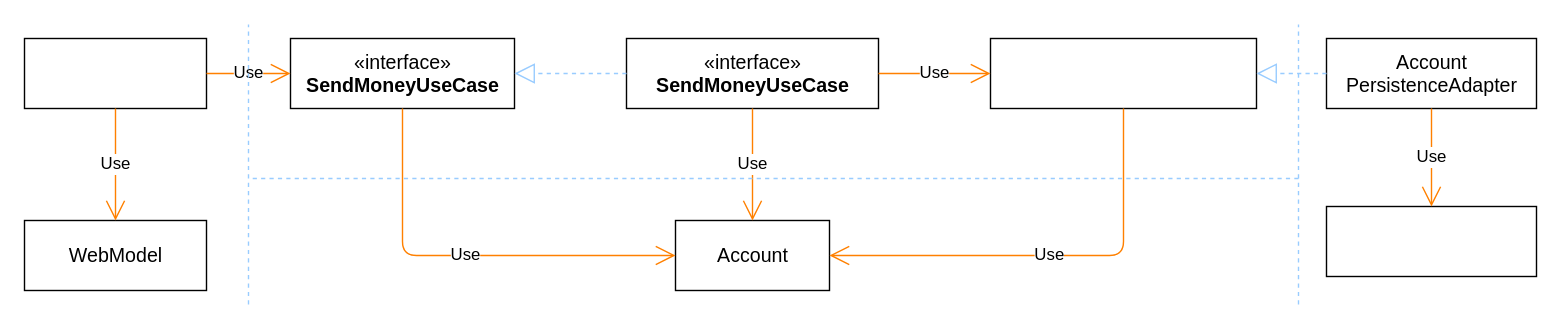
This 1561x330 diagram has some shape labels left out. The centre of each missing label's shape, as x and y in pixels:
"AccountController" belongs at pixel 114 72.
"PersistenceModel" belongs at pixel 1430 240.
"«interface» UpdateAccountStatePort" belongs at pixel 1122 72.
